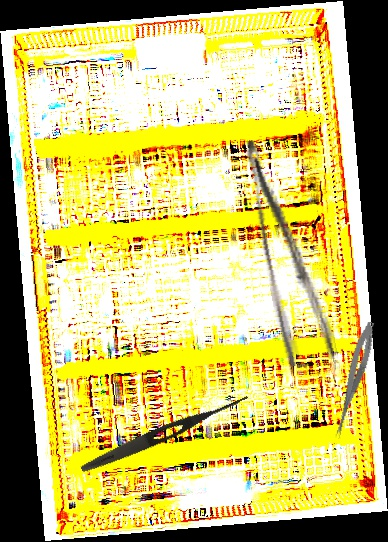Dressing Forceps: (241, 131, 339, 369), (78, 388, 251, 478)
Micro Scissor: (330, 319, 379, 442)
